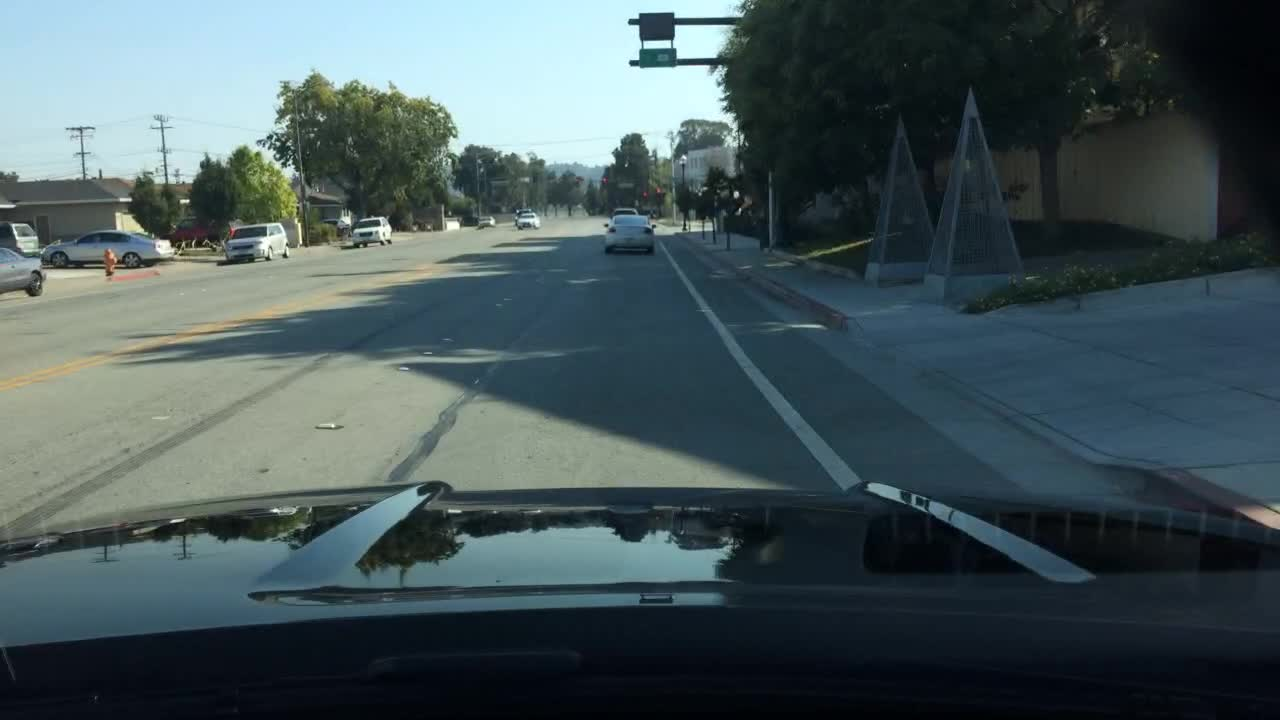car: (39, 231, 177, 266), (224, 221, 293, 263), (0, 246, 47, 302), (599, 212, 654, 258), (0, 221, 37, 261), (347, 215, 390, 248), (514, 212, 536, 234), (609, 207, 638, 221), (511, 207, 530, 226), (476, 214, 496, 227)
traffic light: (651, 180, 668, 192), (597, 168, 607, 187)
traffic sign: (636, 10, 671, 40), (638, 48, 673, 67)
